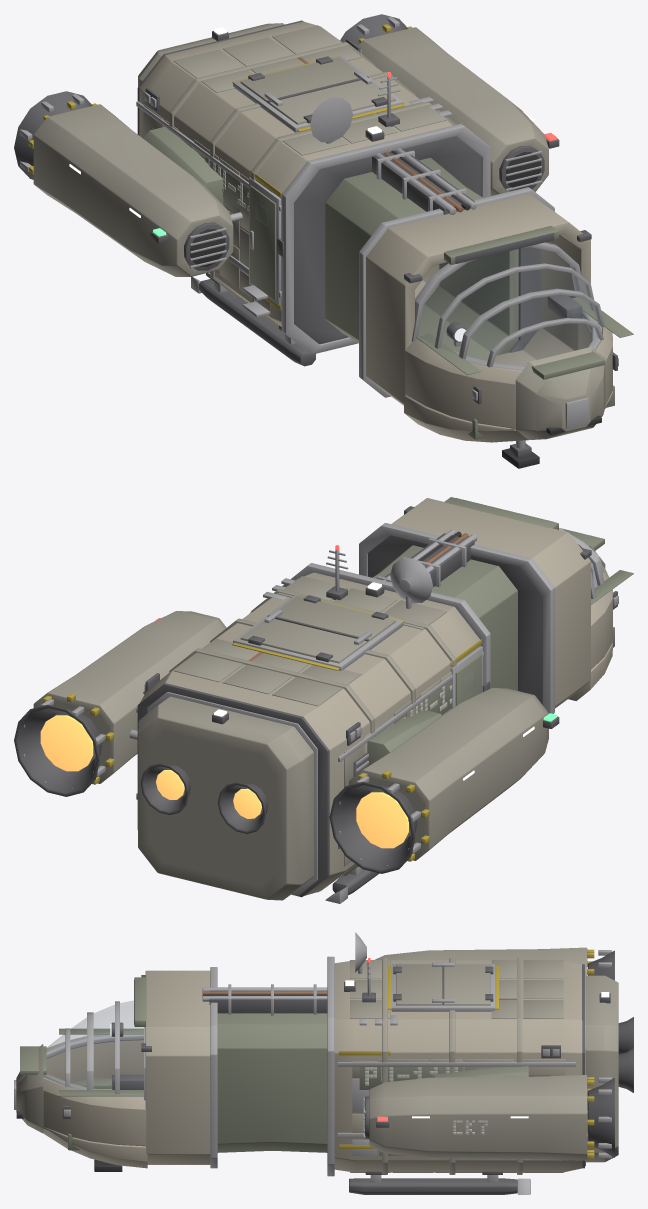
File: ship-exterior.glb
The picture shows the model from 3 angles, top to bottom: view 1: azimuth 30°, elevation 25°; view 2: azimuth 150°, elevation 25°; view 3: azimuth 270°, elevation 25°; orthographic projection. The views are drawn at different scales.
Visible parts, largest first — view 1: SM_Nac_Star, SM_Hull_Head, SM_Hull_Neck, SM_Hull_Body, SM_Canopy_Glass, SM_Nac_Port, SM_Hull_StepBody, SM_Plate_Top, SM_Fore_RailStar, SM_Hull_CollarBody, SM_Fore_Nose, SM_Hatch_Lid (+34 smaller); view 2: SM_Hull_Tail, SM_Nac_Star, SM_Hull_Body, SM_Hull_Head, SM_Nac_Port, SM_Plate_Top, SM_Hull_Neck, SM_Hatch_Lid, SM_Hull_StepHead, SM_Hull_CollarHead, SM_Nac_Star_Bell, SM_Nac_Port_Bell (+25 smaller); view 3: SM_Hull_Body, SM_Nac_Port, SM_Hull_Neck, SM_Hull_Head, SM_Canopy_Glass, SM_Plate_Top, SM_Fore_RailPort, SM_Hull_Tail, SM_Hatch_Lid, SM_Skid_Port, SM_Fore_RailStar, SM_Nac_Star (+29 smaller).
Boxes of the visible parts, bbox=[...] form: SM_Nac_Star: bbox=[33, 104, 233, 276]; SM_Hull_Head: bbox=[366, 193, 590, 405]; SM_Hull_Neck: bbox=[325, 157, 518, 359]; SM_Hull_Body: bbox=[139, 21, 454, 326]; SM_Canopy_Glass: bbox=[419, 248, 599, 368]; SM_Nac_Port: bbox=[358, 27, 548, 195]; SM_Hull_StepBody: bbox=[294, 136, 481, 344]; SM_Plate_Top: bbox=[173, 25, 446, 155]; SM_Fore_RailStar: bbox=[405, 339, 522, 428]; SM_Hull_CollarBody: bbox=[281, 123, 490, 354]; SM_Fore_Nose: bbox=[515, 347, 605, 439]; SM_Hatch_Lid: bbox=[240, 57, 395, 124]; SM_Hull_Tail: bbox=[138, 696, 313, 900]; SM_Nac_Star: bbox=[349, 688, 548, 860]; SM_Hull_Body: bbox=[140, 572, 480, 895]; SM_Hull_Head: bbox=[391, 498, 590, 708]; SM_Nac_Port: bbox=[33, 611, 226, 783]; SM_Plate_Top: bbox=[173, 576, 446, 706]; SM_Hull_Neck: bbox=[372, 545, 517, 690]; SM_Hatch_Lid: bbox=[240, 596, 395, 663]; SM_Hull_StepHead: bbox=[368, 535, 542, 704]; SM_Hull_CollarHead: bbox=[359, 523, 554, 713]; SM_Nac_Star_Bell: bbox=[329, 781, 417, 873]; SM_Nac_Port_Bell: bbox=[14, 704, 101, 796]; SM_Hull_Body: bbox=[334, 960, 582, 1172]; SM_Nac_Port: bbox=[369, 1075, 587, 1160]; SM_Hull_Neck: bbox=[217, 1013, 327, 1152]; SM_Hull_Head: bbox=[145, 970, 210, 1164]; SM_Canopy_Glass: bbox=[44, 1001, 143, 1093]; SM_Plate_Top: bbox=[350, 960, 563, 1018]; SM_Fore_RailPort: bbox=[43, 1077, 146, 1146]; SM_Hull_Tail: bbox=[586, 975, 618, 1162]; SM_Hatch_Lid: bbox=[396, 964, 490, 1005]; SM_Skid_Port: bbox=[349, 1178, 517, 1194]; SM_Fore_RailStar: bbox=[46, 1034, 143, 1082]; SM_Nac_Star: bbox=[375, 947, 587, 975].
Bounding box in the file's own units: 8.52 × 5.4 × 13.79.
